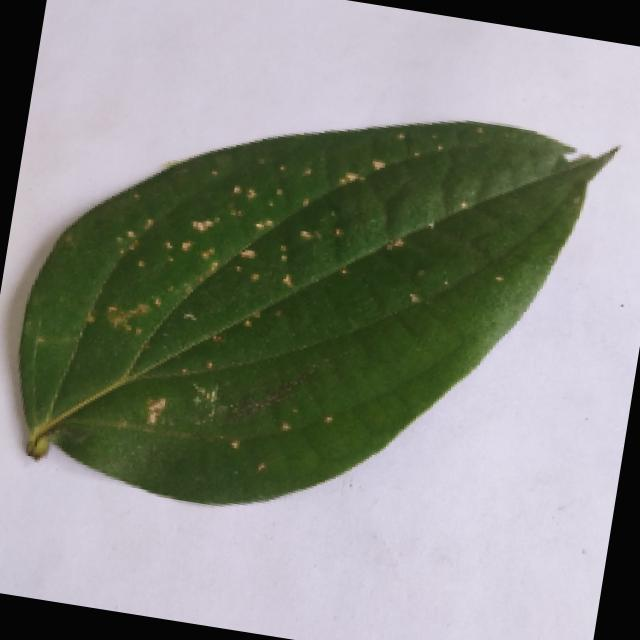pollu-disease: (1, 54, 612, 553)
